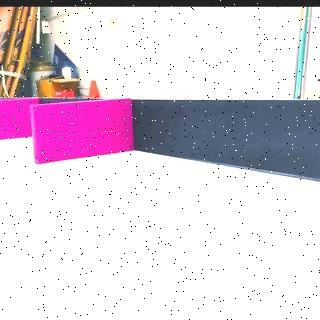xparking: (33, 108, 132, 155), (1, 98, 27, 142)
